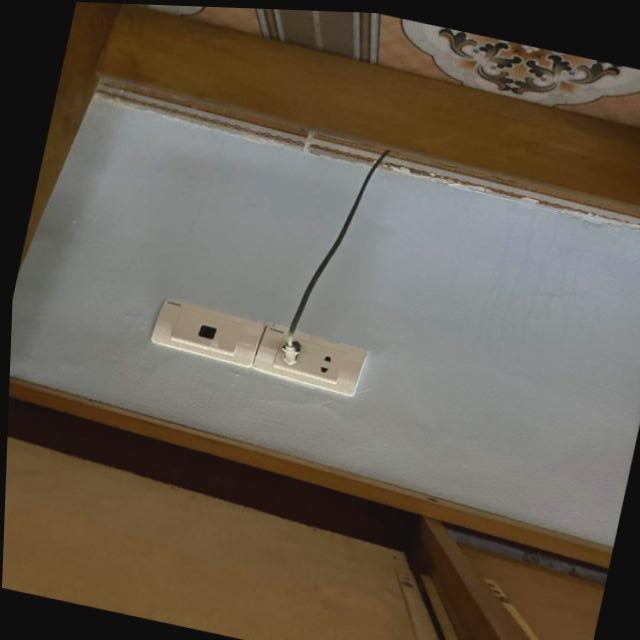outlet: (249, 322, 370, 399), (147, 298, 266, 370)
